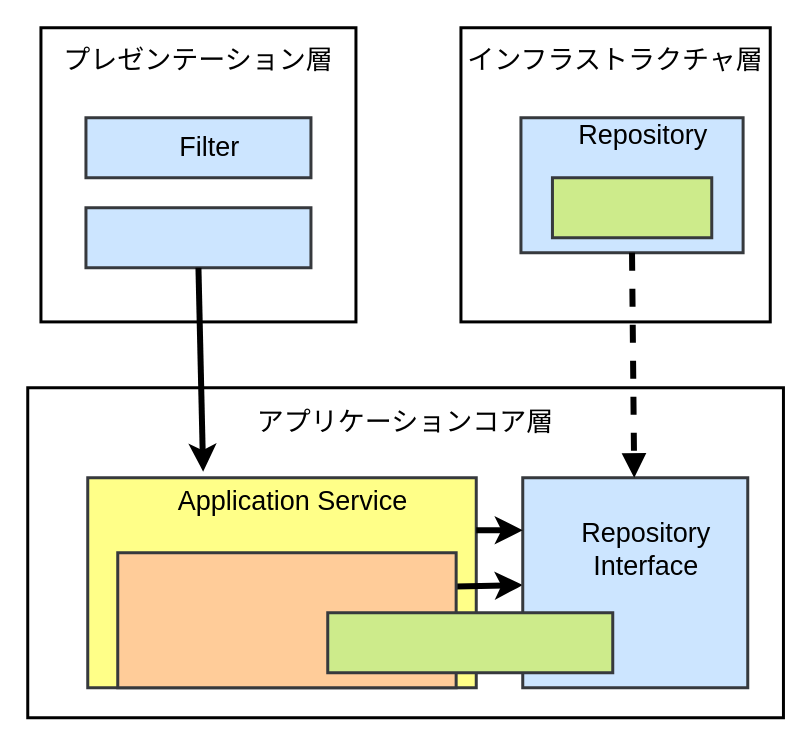
Some shapes in this 810 by 744 pixel diagram are drawn without their labels. Here are the shapes that lost their labels. From the top down, the centre of each, then its label:
At point (631, 207): "Entity".
At point (198, 237): "Controller".
At point (286, 619): "Domain Service".
At point (470, 642): "Domain Model".
